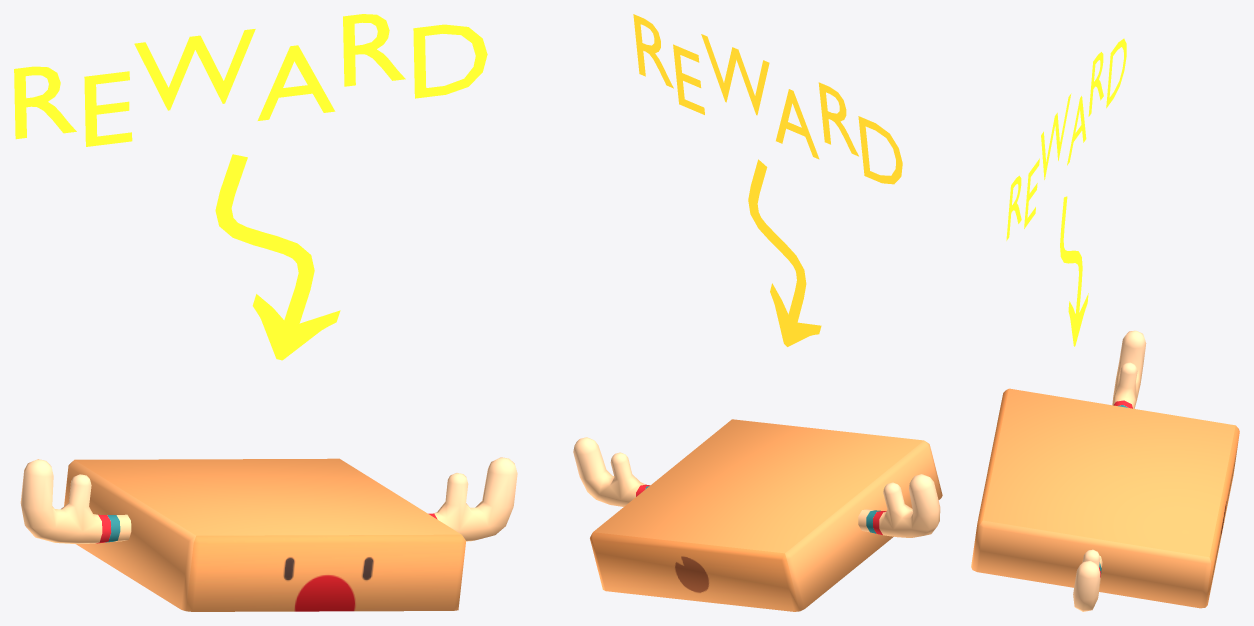
Rendered from obj_reward.gltf.
The picture shows the model from 3 angles, left to right: view 1: azimuth 30°, elevation 25°; view 2: azimuth 150°, elevation 25°; view 3: azimuth 270°, elevation 25°; orthographic projection. The views are drawn at different scales.
Visible parts, largest first — view 1: obj_reward, obj_reward_text; view 2: obj_reward, obj_reward_text; view 3: obj_reward, obj_reward_text.
Boxes of the visible parts, x1=… form: obj_reward: x1=20, y1=457, x2=517, y2=611; obj_reward_text: x1=14, y1=14, x2=487, y2=360; obj_reward: x1=573, y1=419, x2=942, y2=611; obj_reward_text: x1=633, y1=14, x2=902, y2=346; obj_reward: x1=971, y1=330, x2=1239, y2=611; obj_reward_text: x1=1006, y1=38, x2=1126, y2=346.
Size of what is drawn, in the model's own units: 1.1 by 1.35 by 0.6942.
Materials: 2 (1 with a texture image).
